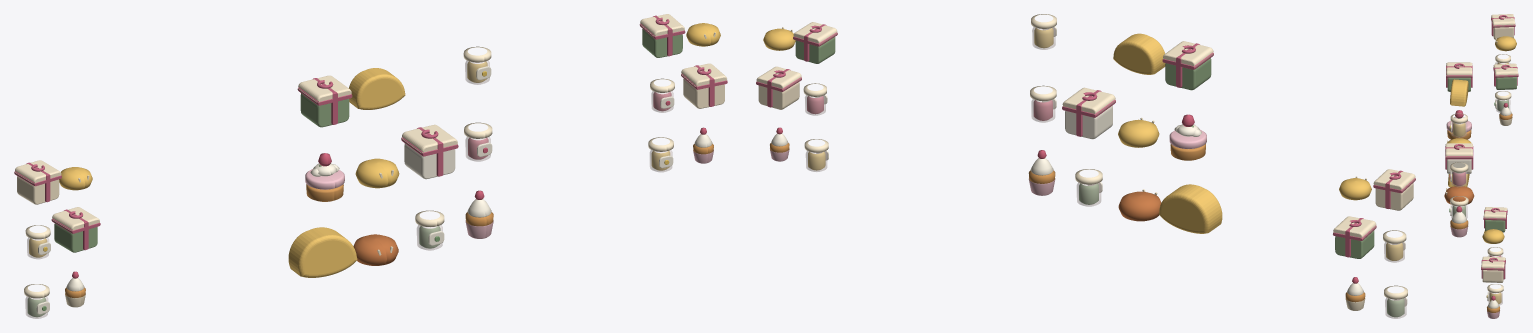
Rendered from bakery-props.glb.
The picture shows the model from 3 angles, left to right: view 1: azimuth 30°, elevation 25°; view 2: azimuth 150°, elevation 25°; view 3: azimuth 270°, elevation 25°; orthographic projection. The views are drawn at different scales.
Parts seen in each view (by area): view 1: HoneyLoafBody, TopLoafBody, MilkBunBody, IvoryGiftBoxBase, RoundBriocheBody, SageTeaBoxBase, IvoryGiftBoxLid, SageTeaBoxLid, LeftShelfPropsBoxBase, LeftShelfPropsTopBoxBase, RightShelfPropsBoxBase, RightShelfPropsTopBoxBase (+7 smaller); view 2: HoneyLoafBody, TopLoafBody, MilkBunBody, RoundBriocheBody, IvoryGiftBoxBase, SageTeaBoxBase, IvoryGiftBoxLid, SageTeaBoxLid, RightShelfPropsBoxBase, RightShelfPropsTopBoxBase, LeftShelfPropsBoxBase, LeftShelfPropsTopBoxBase (+10 smaller); view 3: TopLoafBody, MilkBunBody, IvoryGiftBoxLid, SageTeaBoxLid, IvoryGiftBoxBase, RightShelfPropsBoxBase, LeftShelfPropsBoxLid, LeftShelfPropsBunBody, RightShelfPropsBunBody, RightShelfPropsBoxLid, LeftShelfPropsBoxBase, LeftShelfPropsTopBoxLid (+43 smaller).
Boxes of the visible parts, box(x1,y1,x2,y2) form: HoneyLoafBody: box(288, 227, 357, 277); TopLoafBody: box(349, 68, 405, 109); MilkBunBody: box(353, 234, 398, 265); IvoryGiftBoxBase: box(404, 143, 455, 179); RoundBriocheBody: box(355, 158, 399, 188); SageTeaBoxBase: box(300, 93, 349, 127); IvoryGiftBoxLid: box(402, 124, 457, 153); SageTeaBoxLid: box(298, 75, 351, 102); LeftShelfPropsBoxBase: box(54, 223, 97, 252); LeftShelfPropsTopBoxBase: box(17, 176, 59, 204); RightShelfPropsBoxBase: box(683, 79, 724, 108); RightShelfPropsTopBoxBase: box(642, 28, 682, 57); HoneyLoafBody: box(1159, 184, 1222, 233); TopLoafBody: box(1113, 33, 1165, 74); MilkBunBody: box(1118, 191, 1161, 221); RoundBriocheBody: box(1118, 119, 1159, 147); IvoryGiftBoxBase: box(1065, 105, 1112, 139); SageTeaBoxBase: box(1165, 58, 1211, 90); IvoryGiftBoxLid: box(1062, 87, 1115, 114); SageTeaBoxLid: box(1163, 41, 1213, 66); RightShelfPropsBoxBase: box(758, 82, 799, 109); RightShelfPropsTopBoxBase: box(795, 37, 835, 63); LeftShelfPropsBoxBase: box(1335, 230, 1374, 258); LeftShelfPropsTopBoxBase: box(1375, 183, 1413, 210); TopLoafBody: box(1450, 79, 1468, 106); MilkBunBody: box(1444, 186, 1474, 204); IvoryGiftBoxLid: box(1445, 143, 1472, 157); SageTeaBoxLid: box(1446, 62, 1472, 76); IvoryGiftBoxBase: box(1447, 159, 1471, 173); RightShelfPropsBoxBase: box(1482, 270, 1503, 282); LeftShelfPropsBoxLid: box(1493, 63, 1518, 76); LeftShelfPropsBunBody: box(1495, 36, 1516, 51); RightShelfPropsBunBody: box(1482, 229, 1504, 243); RightShelfPropsBoxLid: box(1481, 256, 1505, 269); LeftShelfPropsBoxBase: box(1496, 77, 1516, 89); LeftShelfPropsTopBoxLid: box(1491, 14, 1515, 26).
Size of the model in its own units: 10.14 by 2.75 by 1.48.
